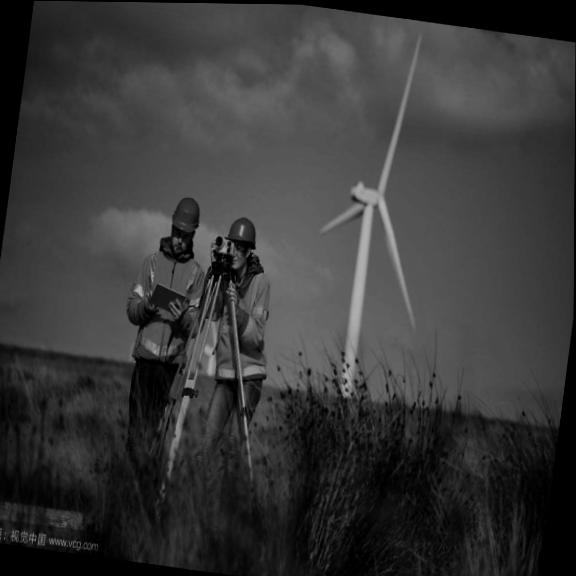safety_vest: (118, 240, 205, 369), (205, 272, 275, 392)
